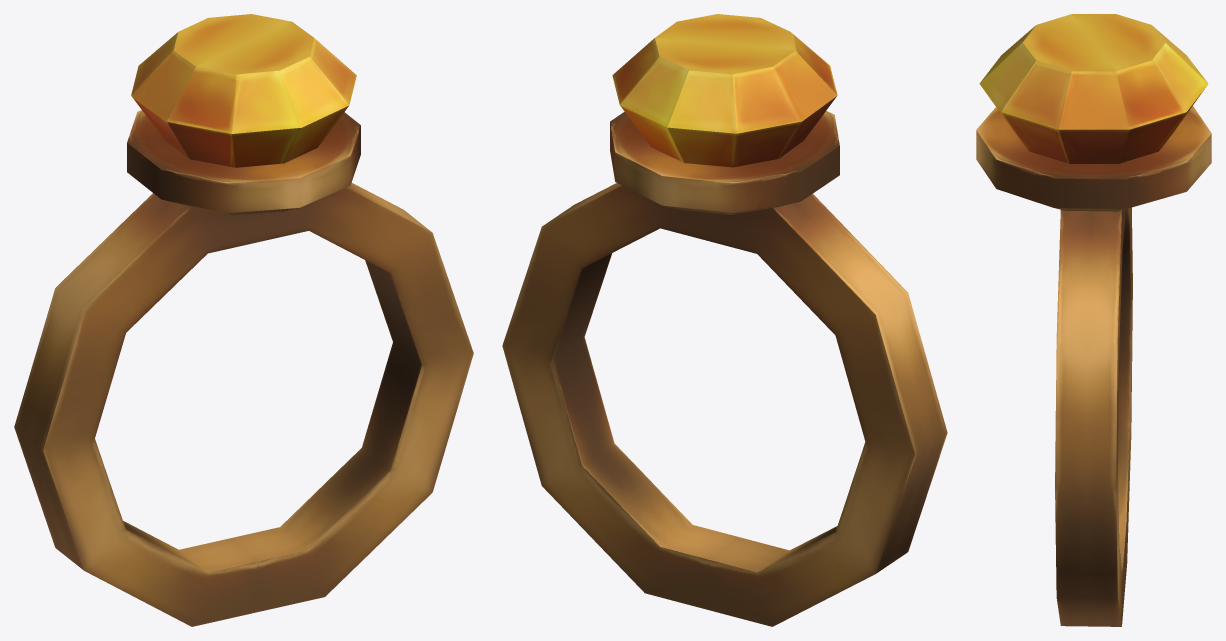
The model's file is ENV2010115.fbx.
3 views of the same model, side by side, from view 1: azimuth 30°, elevation 25°; view 2: azimuth 150°, elevation 25°; view 3: azimuth 270°, elevation 25° (orthographic).
Visible parts, largest first — view 1: smENV2010115; view 2: smENV2010115; view 3: smENV2010115.
Boxes of the visible parts, x1,y1,x2,y2 form: smENV2010115: (14,14,473,626); smENV2010115: (502,14,947,626); smENV2010115: (976,14,1211,626).
Size of the model in its own units: 3.68 by 4.62 by 1.79.
1 material, 1 textured.
